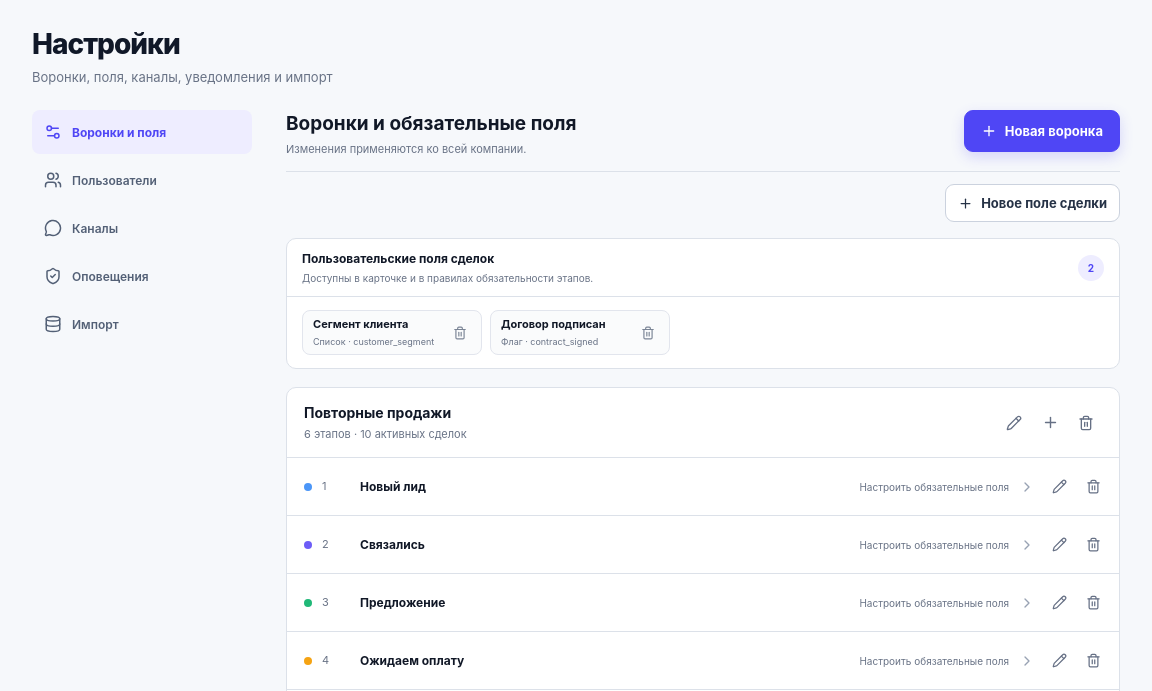
Test: SettingsPage custom fields › removes a deal field from the active catalog after confirmation
Expected: the text "Сегмент клиента" is shown, 313,317 -> 408,331
Click the button named "Удалить поле сделки Сегмент клиента" at (460, 333), box 445,318 -> 475,348
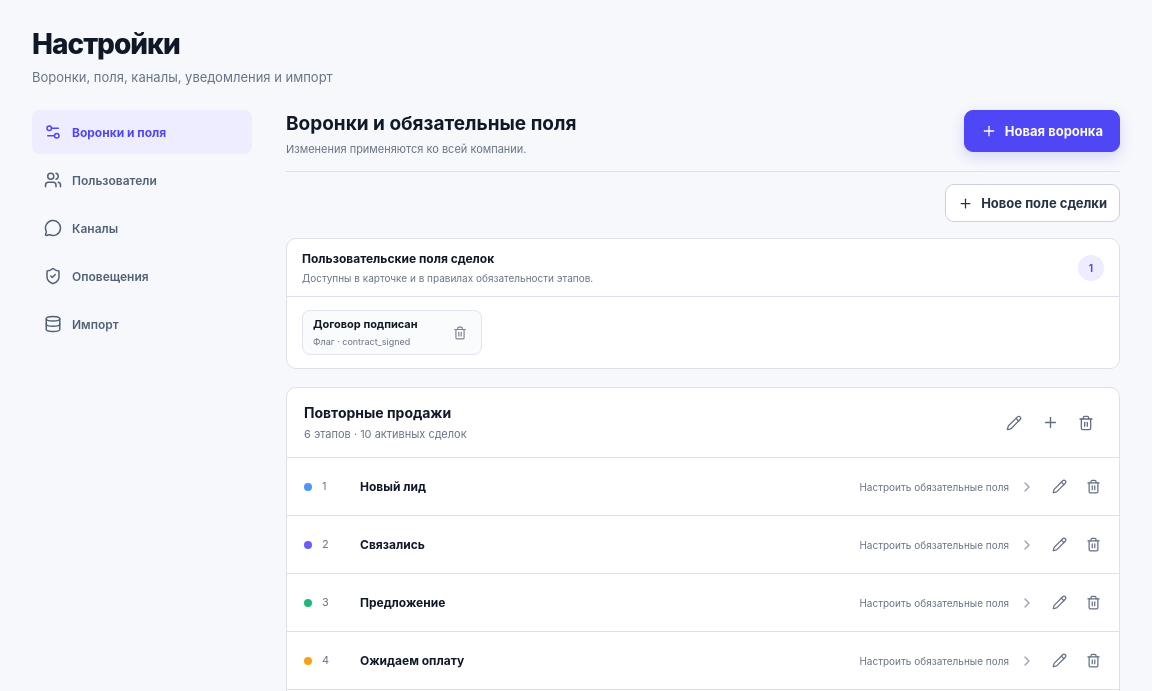
Expected: the text "Договор подписан" is shown, 313,317 -> 418,331
Result: the text "Сегмент клиента" is gone
